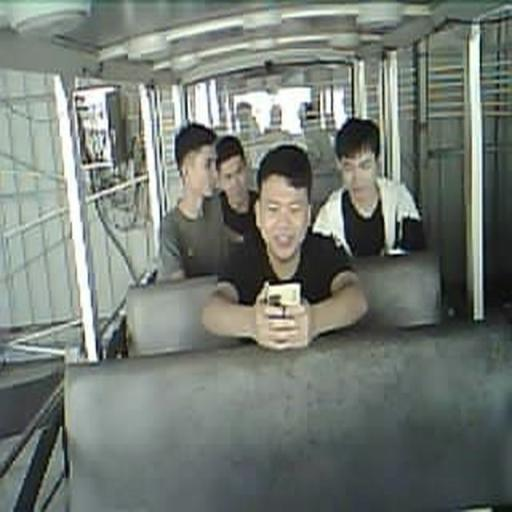persona: (201, 142, 369, 352), (311, 116, 424, 258), (156, 122, 244, 284), (214, 134, 260, 240)
